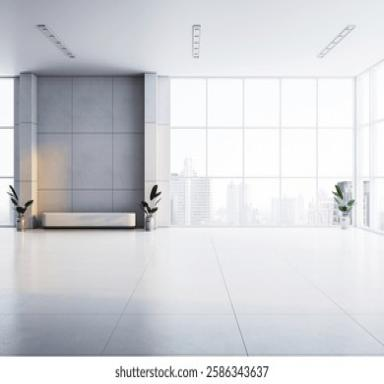glass_panel: (319, 129, 354, 225), (358, 69, 372, 226), (373, 62, 384, 230), (244, 78, 280, 125), (245, 129, 280, 177), (318, 80, 354, 126), (282, 78, 316, 125), (208, 79, 242, 125), (283, 129, 316, 175), (171, 79, 204, 125), (283, 180, 316, 225), (209, 129, 241, 175), (364, 180, 372, 228)
